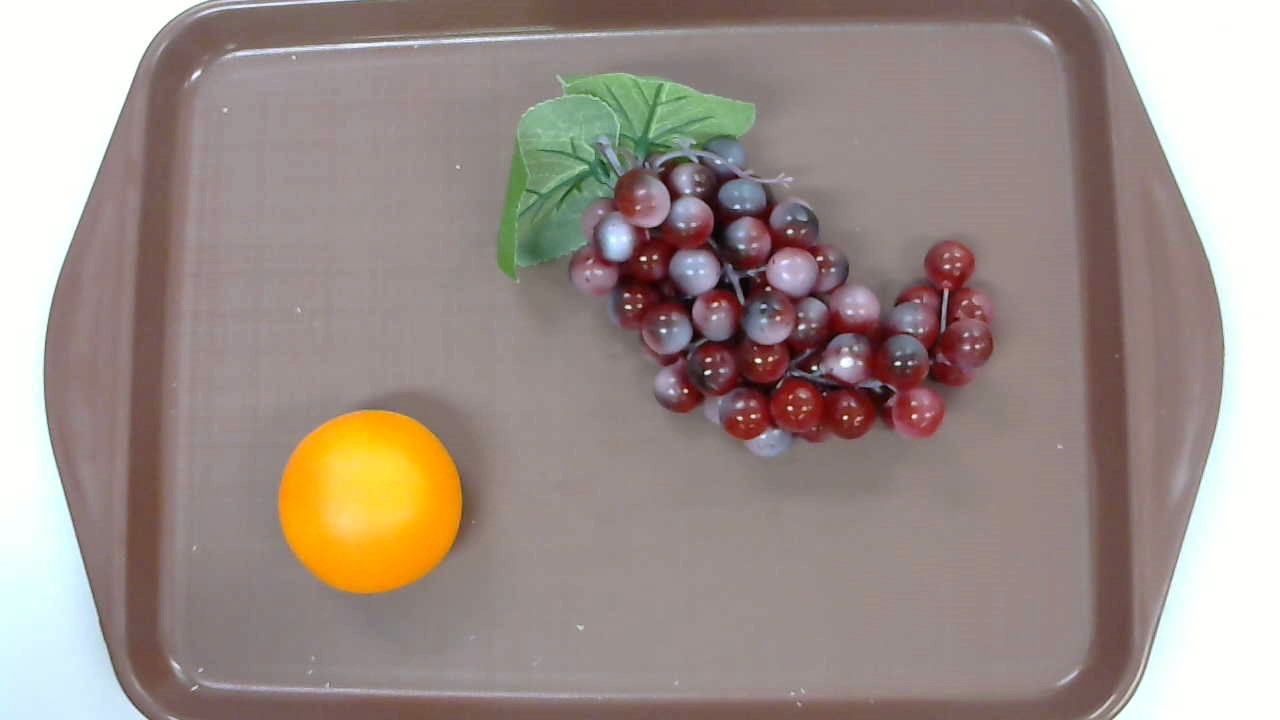bun: (278, 410, 463, 593)
grape: (496, 71, 996, 455)
